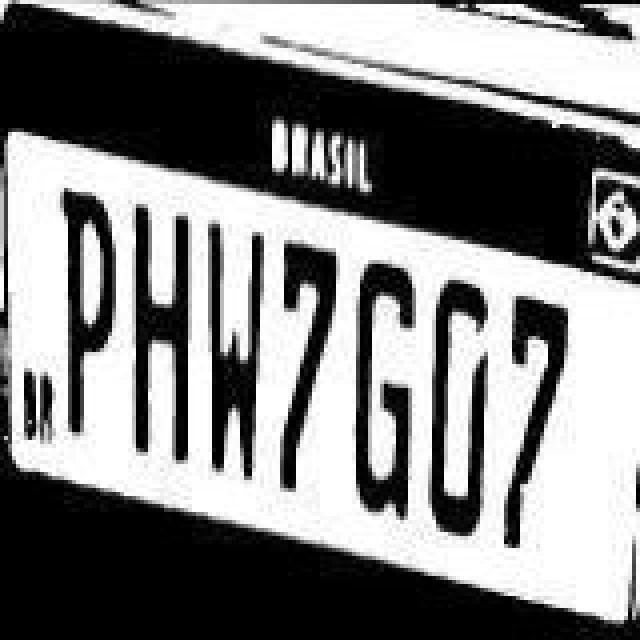7: (502, 294, 578, 546), (276, 232, 340, 500)
D: (426, 274, 502, 530)
G: (342, 248, 426, 524)
H: (130, 202, 206, 454)
P: (58, 184, 118, 440)
W: (206, 218, 266, 482)
